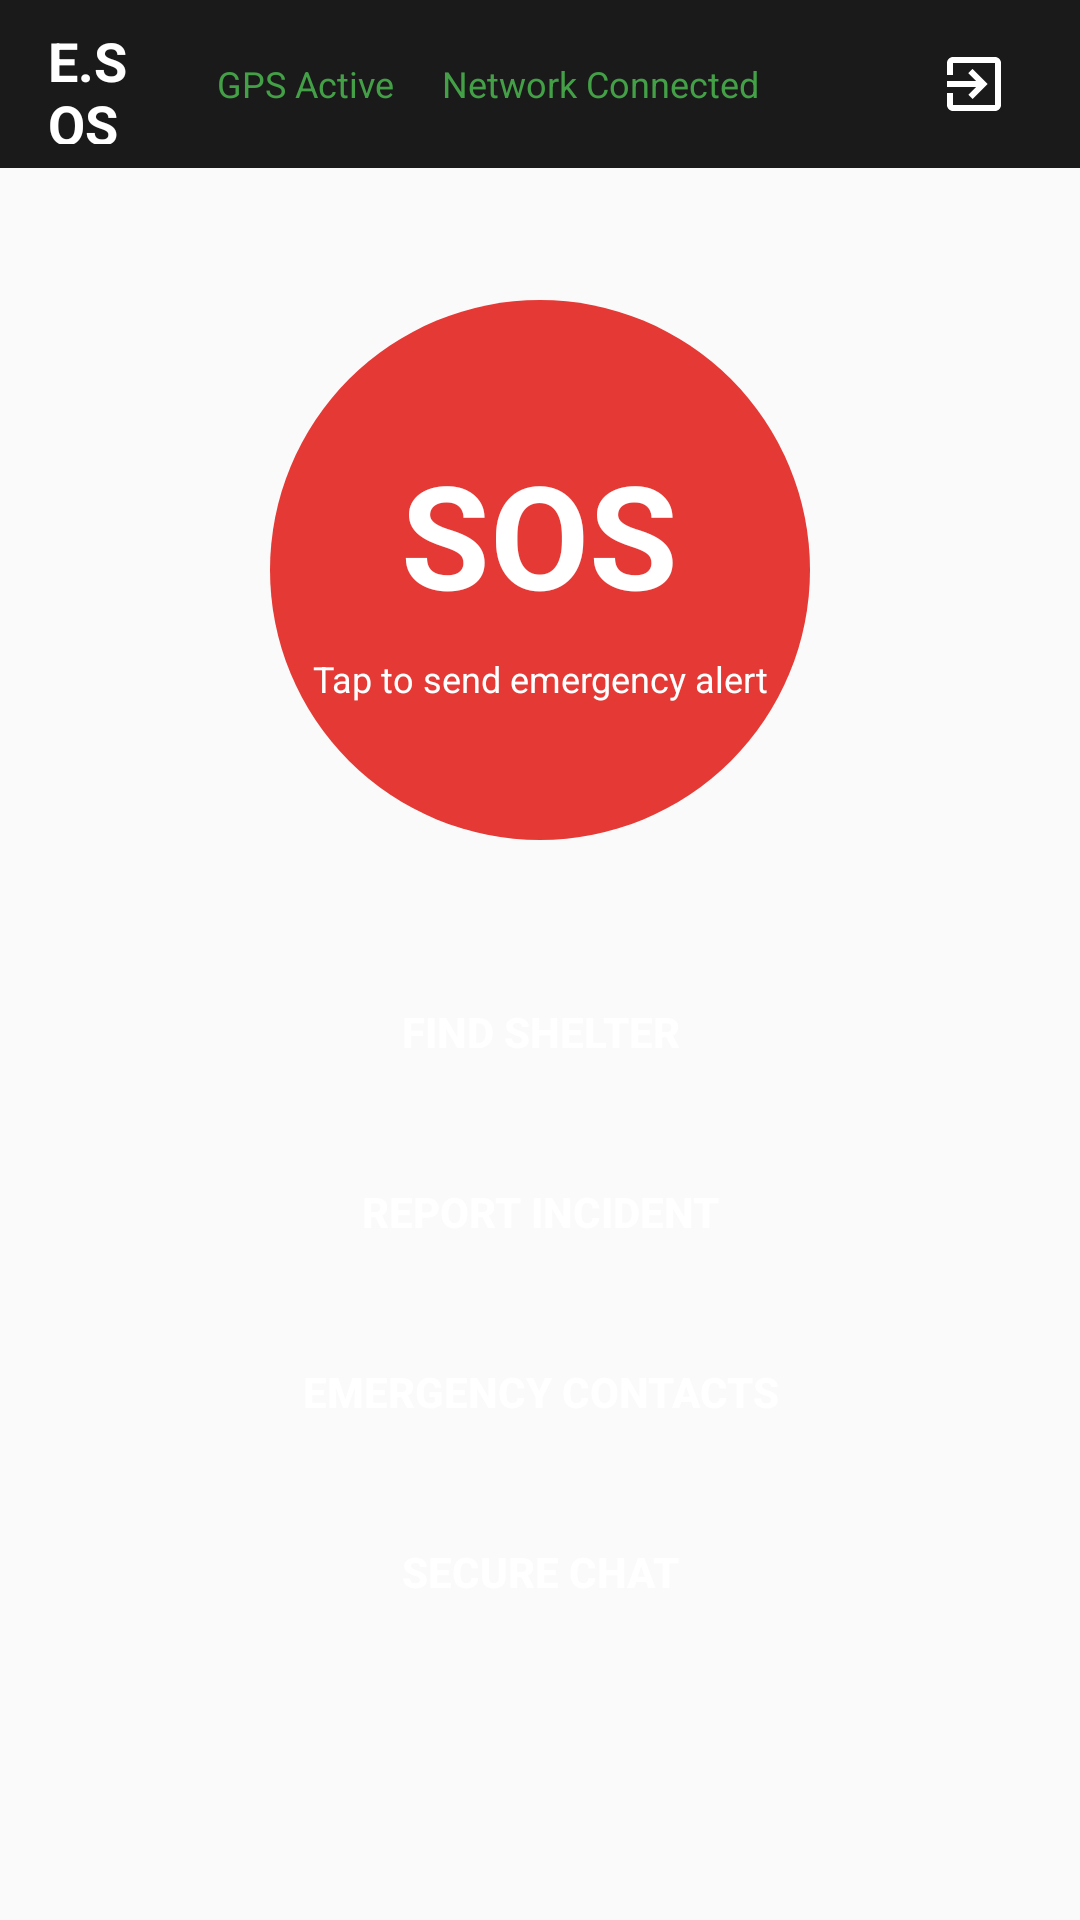

Named icons in this screenshot (1080px x 1920px) and their centers, point (x, y):
QUICK EXIT: point (974, 84)
